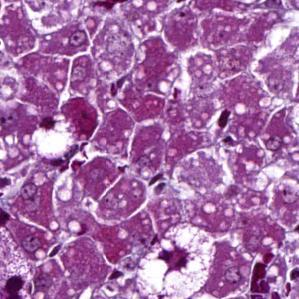ballooning: (134, 221, 216, 296), (29, 112, 85, 164)
